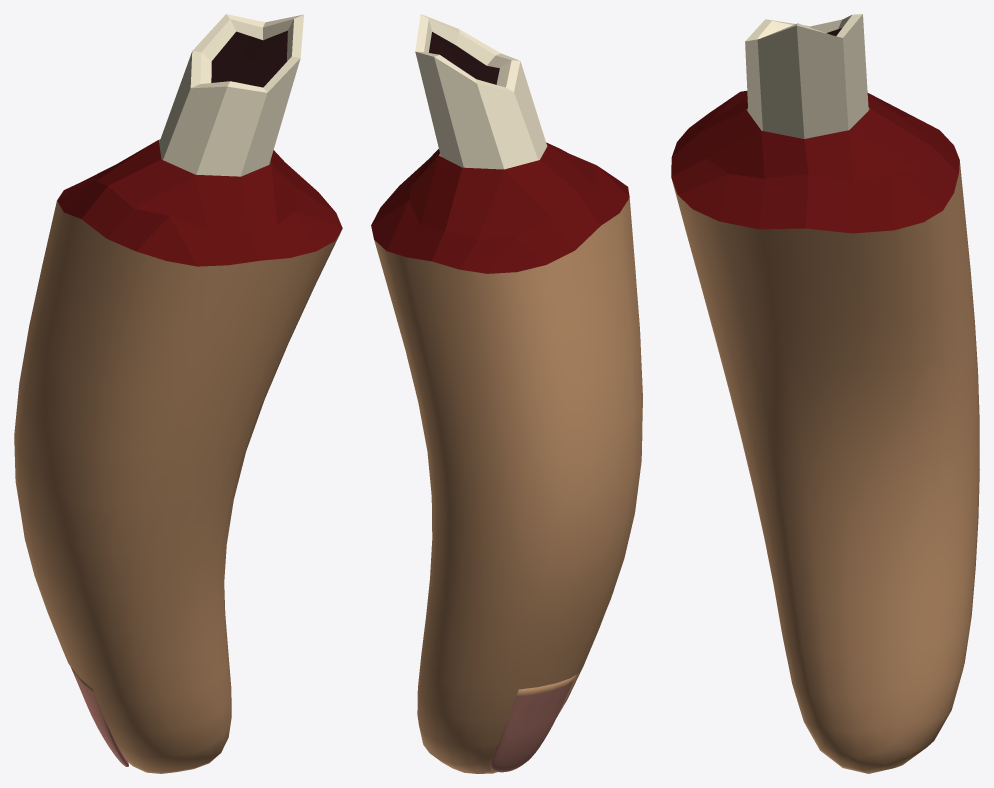
Rendered from Finger.FBX.
The picture shows the model from 3 angles, left to right: view 1: azimuth 30°, elevation 25°; view 2: azimuth 150°, elevation 25°; view 3: azimuth 270°, elevation 25°; orthographic projection. The views are drawn at different scales.
Parts seen in each view (by area): view 1: finger; view 2: finger; view 3: finger.
Boxes of the visible parts, x1,y1,x2,y2 form: finger: [14, 14, 342, 773]; finger: [371, 14, 642, 773]; finger: [671, 14, 979, 773].
Bounding box in the file's own units: 39.22 × 109 × 38.78.
